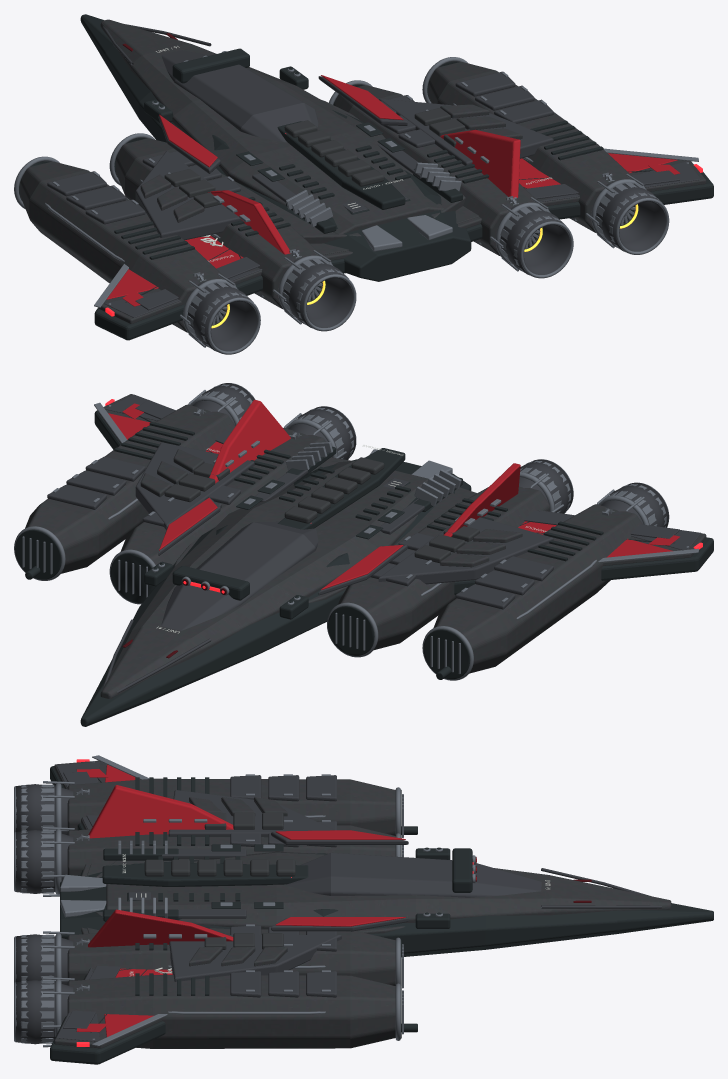
Rendered from super.glb.
3 renders of one model, top to bottom at view 1: azimuth 30°, elevation 25°; view 2: azimuth 150°, elevation 25°; view 3: azimuth 270°, elevation 25°, orthographic.
Visible parts, largest first — view 1: 主装甲_陶瓷金属涂层, 次级装甲_深色钢, 碳化结构与接缝, 拉丝钛合金, 识别色; view 2: 主装甲_陶瓷金属涂层, 次级装甲_深色钢, 碳化结构与接缝, 拉丝钛合金, 识别色; view 3: 主装甲_陶瓷金属涂层, 次级装甲_深色钢, 碳化结构与接缝, 拉丝钛合金, 识别色.
Part boxes in pixels (<box>): 主装甲_陶瓷金属涂层: <box>20,19,706,332</box>; 次级装甲_深色钢: <box>47,24,700,351</box>; 碳化结构与接缝: <box>19,14,713,340</box>; 拉丝钛合金: <box>14,51,698,354</box>; 识别色: <box>106,75,680,306</box>; 主装甲_陶瓷金属涂层: <box>25,394,706,698</box>; 次级装甲_深色钢: <box>47,383,701,693</box>; 碳化结构与接缝: <box>15,409,713,726</box>; 拉丝钛合金: <box>14,383,698,680</box>; 识别色: <box>108,399,679,589</box>; 主装甲_陶瓷金属涂层: <box>54,760,671,1048</box>; 次级装甲_深色钢: <box>16,761,661,1044</box>; 碳化结构与接缝: <box>50,766,713,1064</box>; 拉丝钛合金: <box>14,755,475,1047</box>; 识别色: <box>76,764,405,1036</box>.
Bounding box in the file's own units: 10.3 × 1.58 × 10.49.
Materials: 9 (1 with a texture image).
